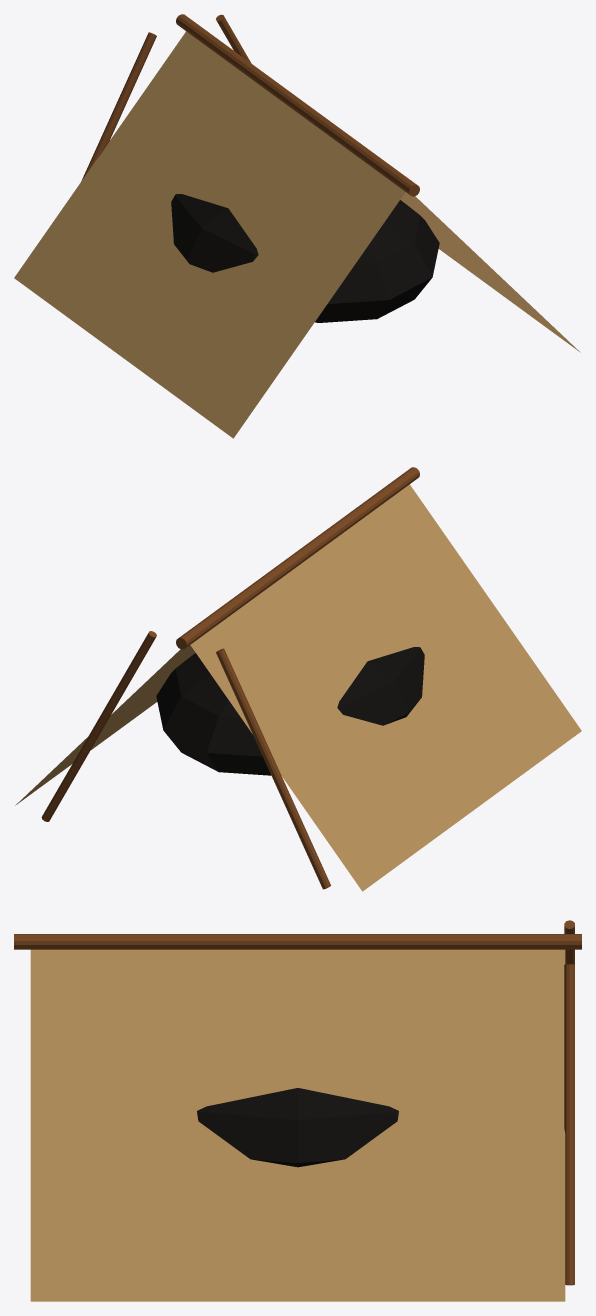
File: small_triangle_tent_open.obj
The picture shows the model from 3 angles, top to bottom: view 1: azimuth 30°, elevation 25°; view 2: azimuth 150°, elevation 25°; view 3: azimuth 270°, elevation 25°; orthographic projection. The views are drawn at different scales.
Parts seen in each view (by area): view 1: sloped_canvas, dark_interior, ridge_pole, front_left_pole; view 2: sloped_canvas, dark_interior, ridge_pole, front_left_pole, front_right_pole; view 3: sloped_canvas, dark_interior, ridge_pole, front_right_pole.
Part boxes in pixels (x1=…): sloped_canvas: x1=14, y1=31, x2=580, y2=438; dark_interior: x1=171, y1=194, x2=439, y2=322; ridge_pole: x1=176, y1=14, x2=419, y2=196; front_left_pole: x1=81, y1=32, x2=156, y2=181; sloped_canvas: x1=15, y1=484, x2=581, y2=891; dark_interior: x1=156, y1=647, x2=424, y2=775; ridge_pole: x1=176, y1=467, x2=419, y2=649; front_left_pole: x1=216, y1=648, x2=330, y2=889; front_right_pole: x1=41, y1=631, x2=156, y2=821; sloped_canvas: x1=30, y1=949, x2=565, y2=1301; dark_interior: x1=197, y1=1088, x2=398, y2=1167; ridge_pole: x1=14, y1=934, x2=581, y2=949; front_right_pole: x1=564, y1=964, x2=574, y2=1285.
Size of the model in its own units: 2.2 by 1.33 by 2.55.
